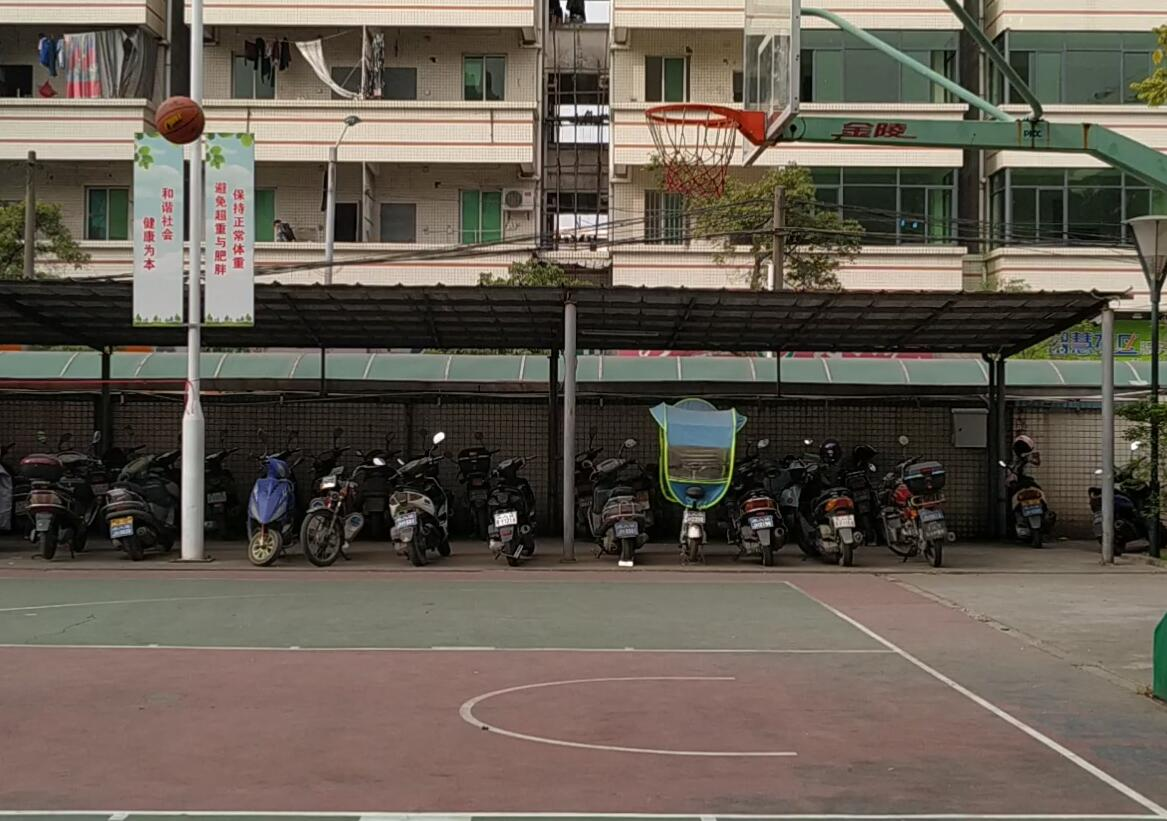basketball: (151, 95, 208, 145)
